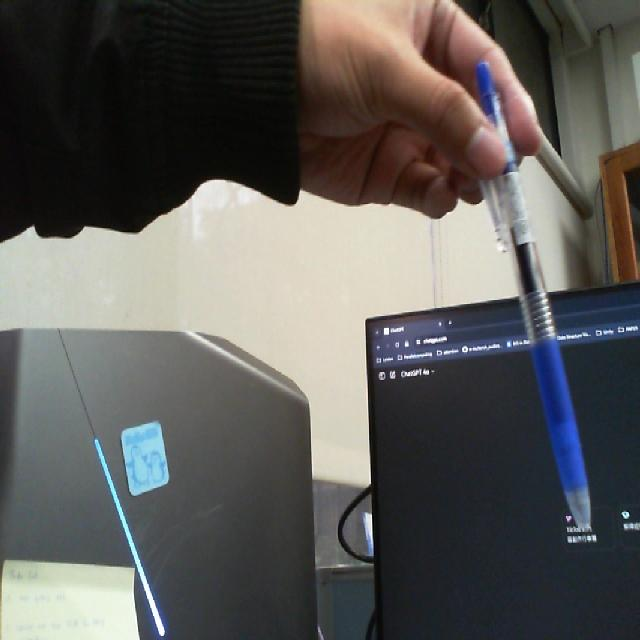Pen: (459, 51, 599, 535)
